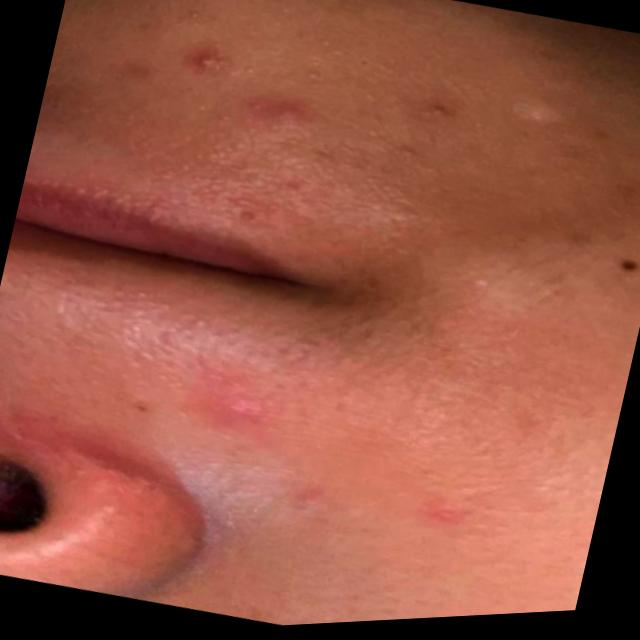papule: (238, 89, 346, 162), (181, 373, 291, 442)
pustule: (184, 39, 223, 88)
